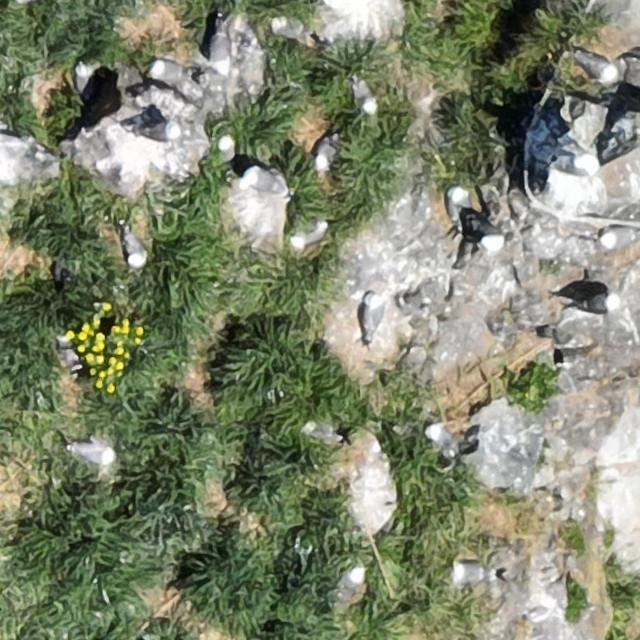umineko: (575, 51, 622, 84), (243, 165, 289, 195), (477, 217, 508, 255), (210, 27, 233, 78), (568, 292, 620, 312), (555, 156, 601, 176), (73, 442, 113, 463), (292, 222, 325, 245), (337, 566, 364, 594), (124, 230, 144, 266), (364, 296, 382, 336), (138, 123, 177, 141), (150, 60, 184, 80), (356, 80, 377, 112), (304, 422, 339, 441), (455, 564, 488, 584), (602, 228, 636, 247), (313, 138, 334, 168), (427, 425, 452, 450), (448, 188, 465, 218), (75, 63, 90, 92), (218, 135, 234, 162)
